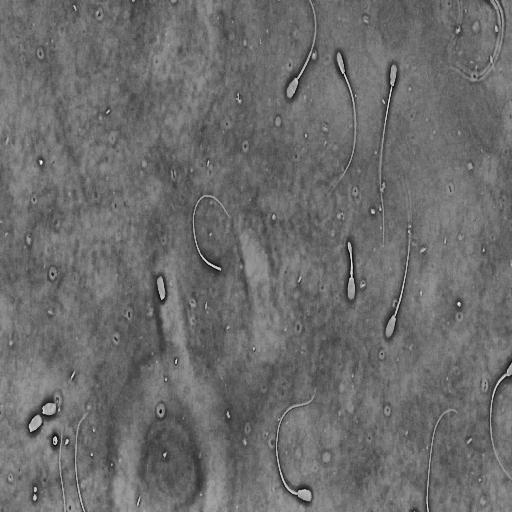coiled-tail: (347, 242, 354, 278)
dirt-particles: (51, 434, 59, 449)
loose-head: (26, 411, 45, 436), (155, 274, 167, 305), (41, 401, 59, 420)
loose-tail: (424, 404, 461, 512), (190, 190, 234, 276), (73, 406, 90, 512), (57, 425, 67, 512)
normal: (273, 383, 317, 505), (383, 197, 412, 341), (331, 45, 358, 194), (379, 59, 399, 247), (284, 0, 319, 102), (345, 236, 357, 305)
